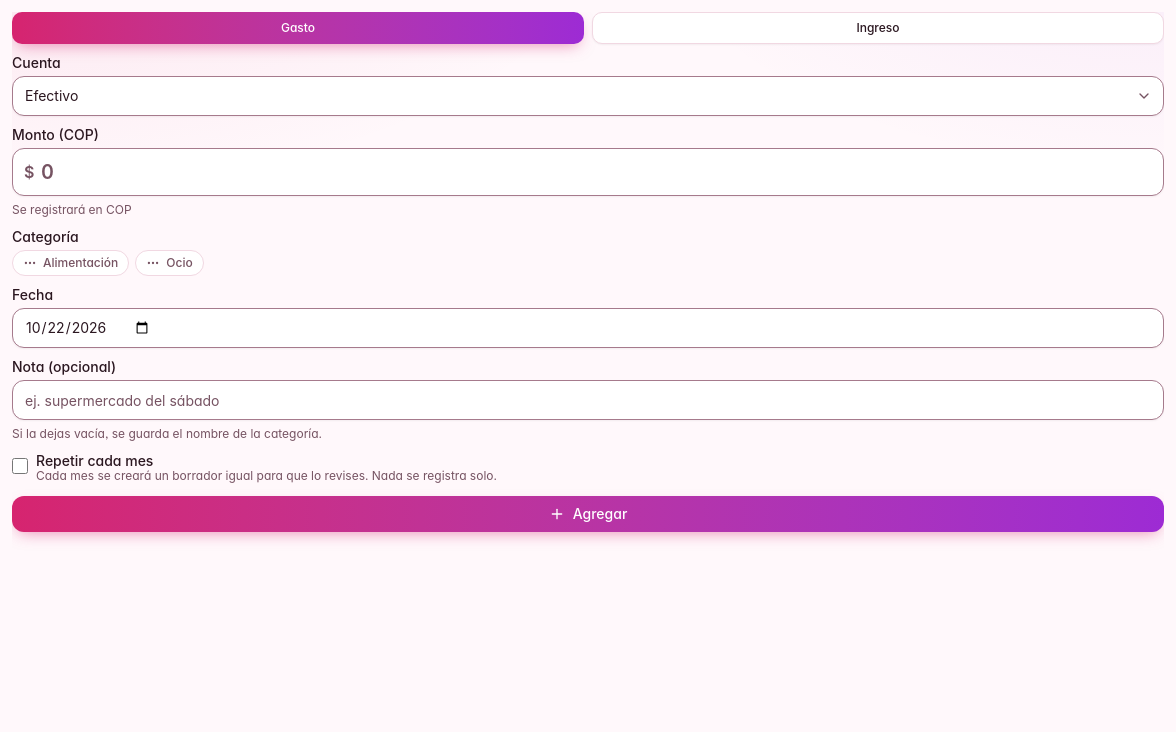
Test: QuickTransactionForm › la etiqueta y la línea de ayuda dicen la moneda de la cuenta, sin «Equivale a»
The image size is (1176, 732).
Expected: the text "Se registrará en COP" is shown, x1=12 y1=202 x2=132 y2=217
Type "40" into the field labelled "Monto (COP)" at (588, 172), box x1=12 y1=148 x2=1164 y2=196
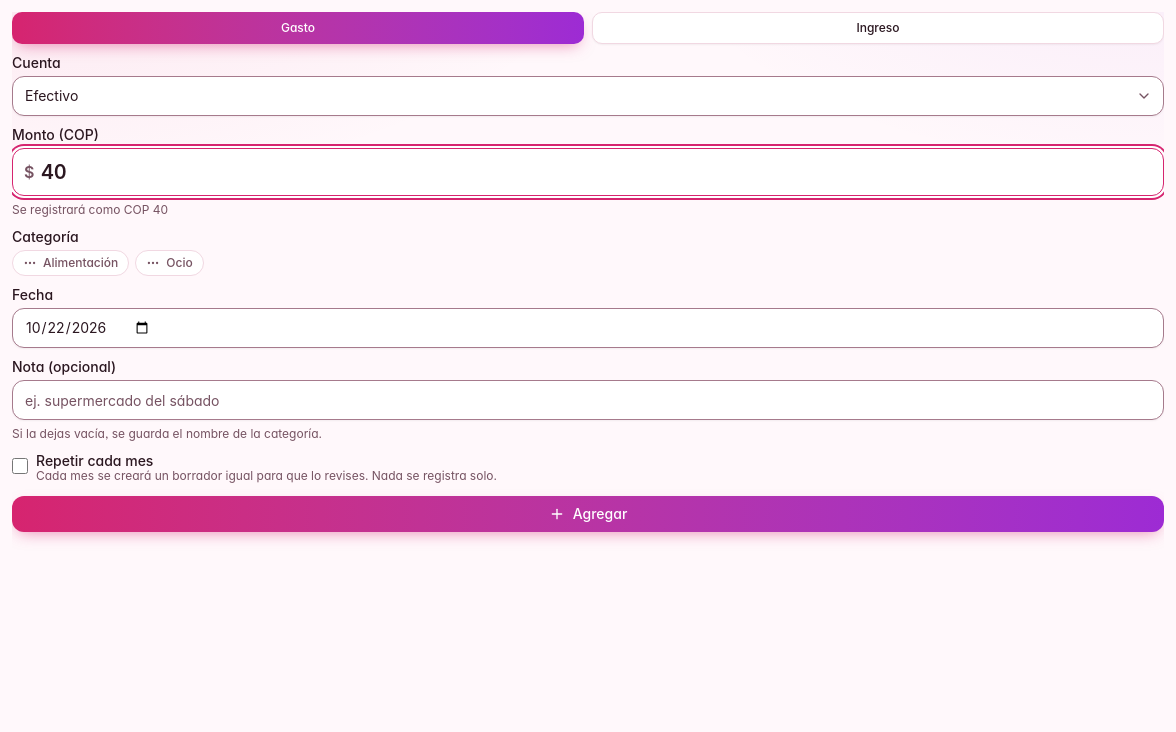
Now the text "Se registrará como COP 40" is shown, box x1=12 y1=202 x2=168 y2=217
